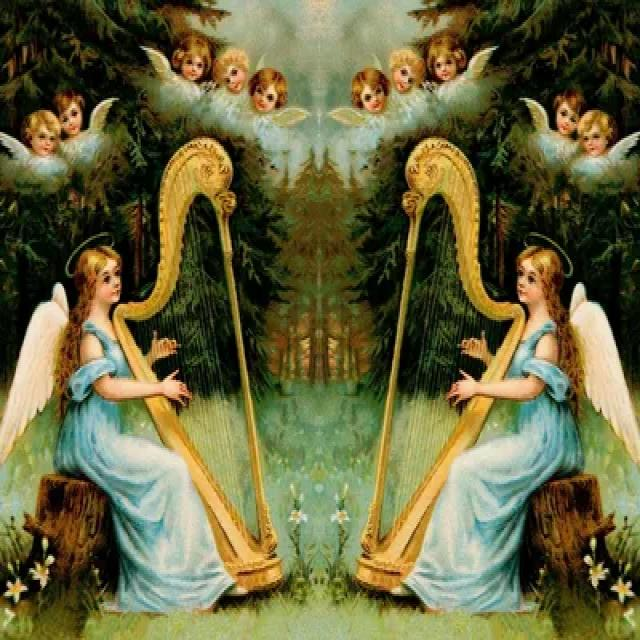angel: (2, 105, 294, 640)
